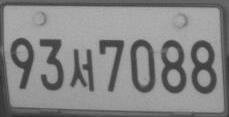0: (129, 38, 156, 93)
3: (39, 38, 65, 91)
7: (97, 39, 125, 92)
8: (159, 38, 187, 94), (190, 38, 217, 94)
9: (9, 37, 34, 89)
서: (69, 48, 95, 92)
